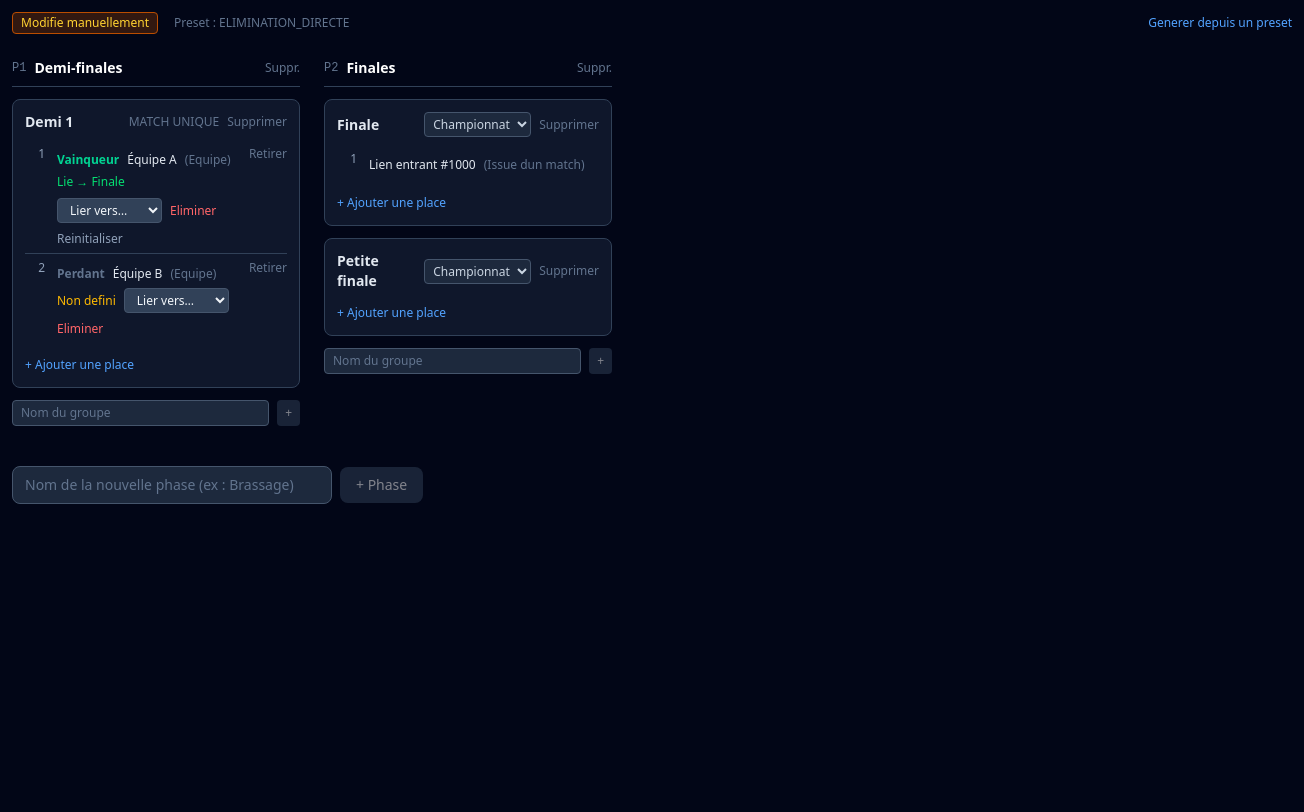
Scenario: FormatGrapheCanvas › propose de forcer l'écrasement uniquement quand le graphe a été modifié manuellement
What coordinates should you click on to do the following:
click the button "Generer depuis un preset"
I would click on:
 (1220, 23)
Its box is [1148,15,1292,31].
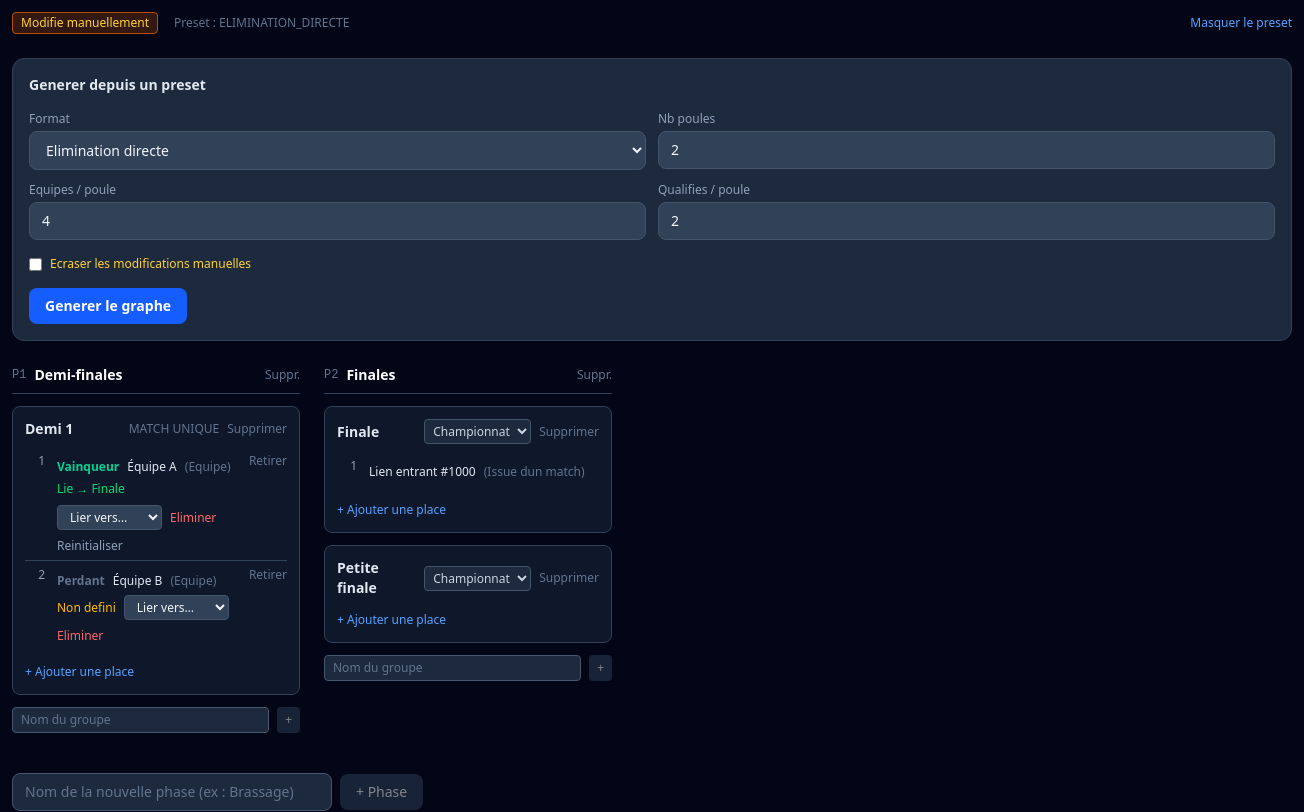
Expected: the text "Ecraser les modifications manuelles" is shown, [29,255,251,272]
